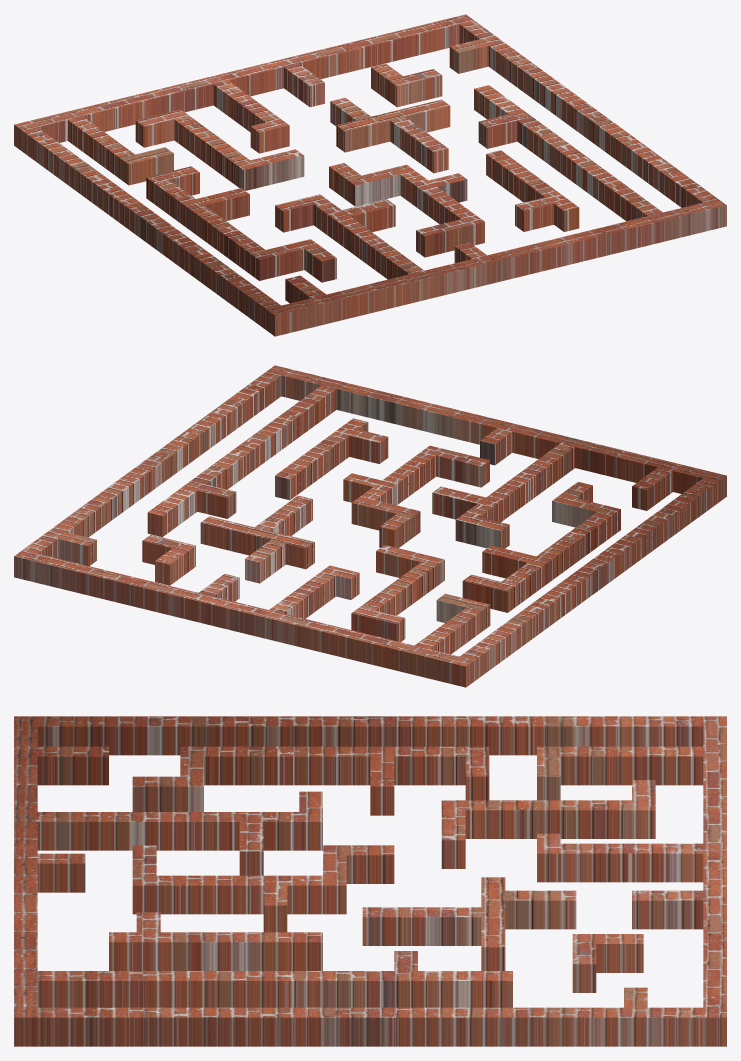
The model's file is Maze.fbx.
3 renders of one model, top to bottom at view 1: azimuth 30°, elevation 25°; view 2: azimuth 150°, elevation 25°; view 3: azimuth 270°, elevation 25°, orthographic. The views are drawn at different scales.
Visible parts, largest first — view 1: pasted__pCube17, pasted__pCube16, pasted__pCube15, pasted__pCube18, pasted__pCube43, pasted__pCube8, pasted__pCube42, pasted__pCube20, pasted__pCube31, pasted__pCube11, pasted__pCube46, pasted__pCube6 (+46 smaller); view 2: pasted__pCube16, pasted__pCube17, pasted__pCube15, pasted__pCube18, pasted__pCube42, pasted__pCube27, pasted__pCube49, pasted__pCube6, pasted__pCube26, pasted__pCube44, pasted__pCube51, pasted__pCube11 (+47 smaller); view 3: pasted__pCube18, pasted__pCube15, pasted__pCube17, pasted__pCube16, pasted__pCube23, pasted__pCube14, pasted__pCube24, pasted__pCube26, pasted__pCube28, pasted__pCube37, pasted__pCube44, pasted__pCube45 (+41 smaller).
Part boxes in pixels (x1,y1,x2,y2): pasted__pCube17: [267, 199, 726, 335]; pasted__pCube16: [14, 14, 473, 151]; pasted__pCube15: [14, 121, 289, 336]; pasted__pCube18: [452, 14, 726, 229]; pasted__pCube43: [336, 114, 390, 152]; pasted__pCube8: [250, 242, 304, 280]; pasted__pCube42: [416, 219, 469, 257]; pasted__pCube20: [120, 147, 173, 185]; pasted__pCube31: [251, 149, 304, 187]; pasted__pCube11: [329, 163, 370, 206]; pasted__pCube46: [407, 129, 448, 173]; pasted__pCube6: [371, 63, 411, 107]; pasted__pCube16: [14, 550, 474, 686]; pasted__pCube17: [267, 365, 726, 496]; pasted__pCube15: [451, 472, 726, 687]; pasted__pCube18: [14, 365, 287, 579]; pasted__pCube42: [436, 449, 489, 487]; pasted__pCube27: [462, 574, 516, 612]; pasted__pCube49: [200, 516, 253, 554]; pasted__pCube6: [155, 542, 195, 585]; pasted__pCube26: [632, 467, 672, 510]; pasted__pCube44: [245, 540, 285, 583]; pasted__pCube51: [275, 456, 315, 500]; pasted__pCube11: [379, 507, 420, 548]; pasted__pCube18: [14, 1007, 726, 1046]; pasted__pCube15: [14, 716, 726, 755]; pasted__pCube17: [14, 716, 37, 1046]; pasted__pCube16: [703, 716, 726, 1046]; pasted__pCube23: [275, 746, 346, 785]; pasted__pCube14: [560, 746, 631, 785]; pasted__pCube24: [204, 746, 275, 785]; pasted__pCube26: [37, 746, 108, 785]; pasted__pCube28: [632, 843, 703, 882]; pasted__pCube37: [560, 843, 631, 882]; pasted__pCube44: [505, 890, 576, 929]; pasted__pCube45: [632, 890, 703, 929].
Size of the model in its own units: 90 by 4 by 90.
1 material, 1 textured.
